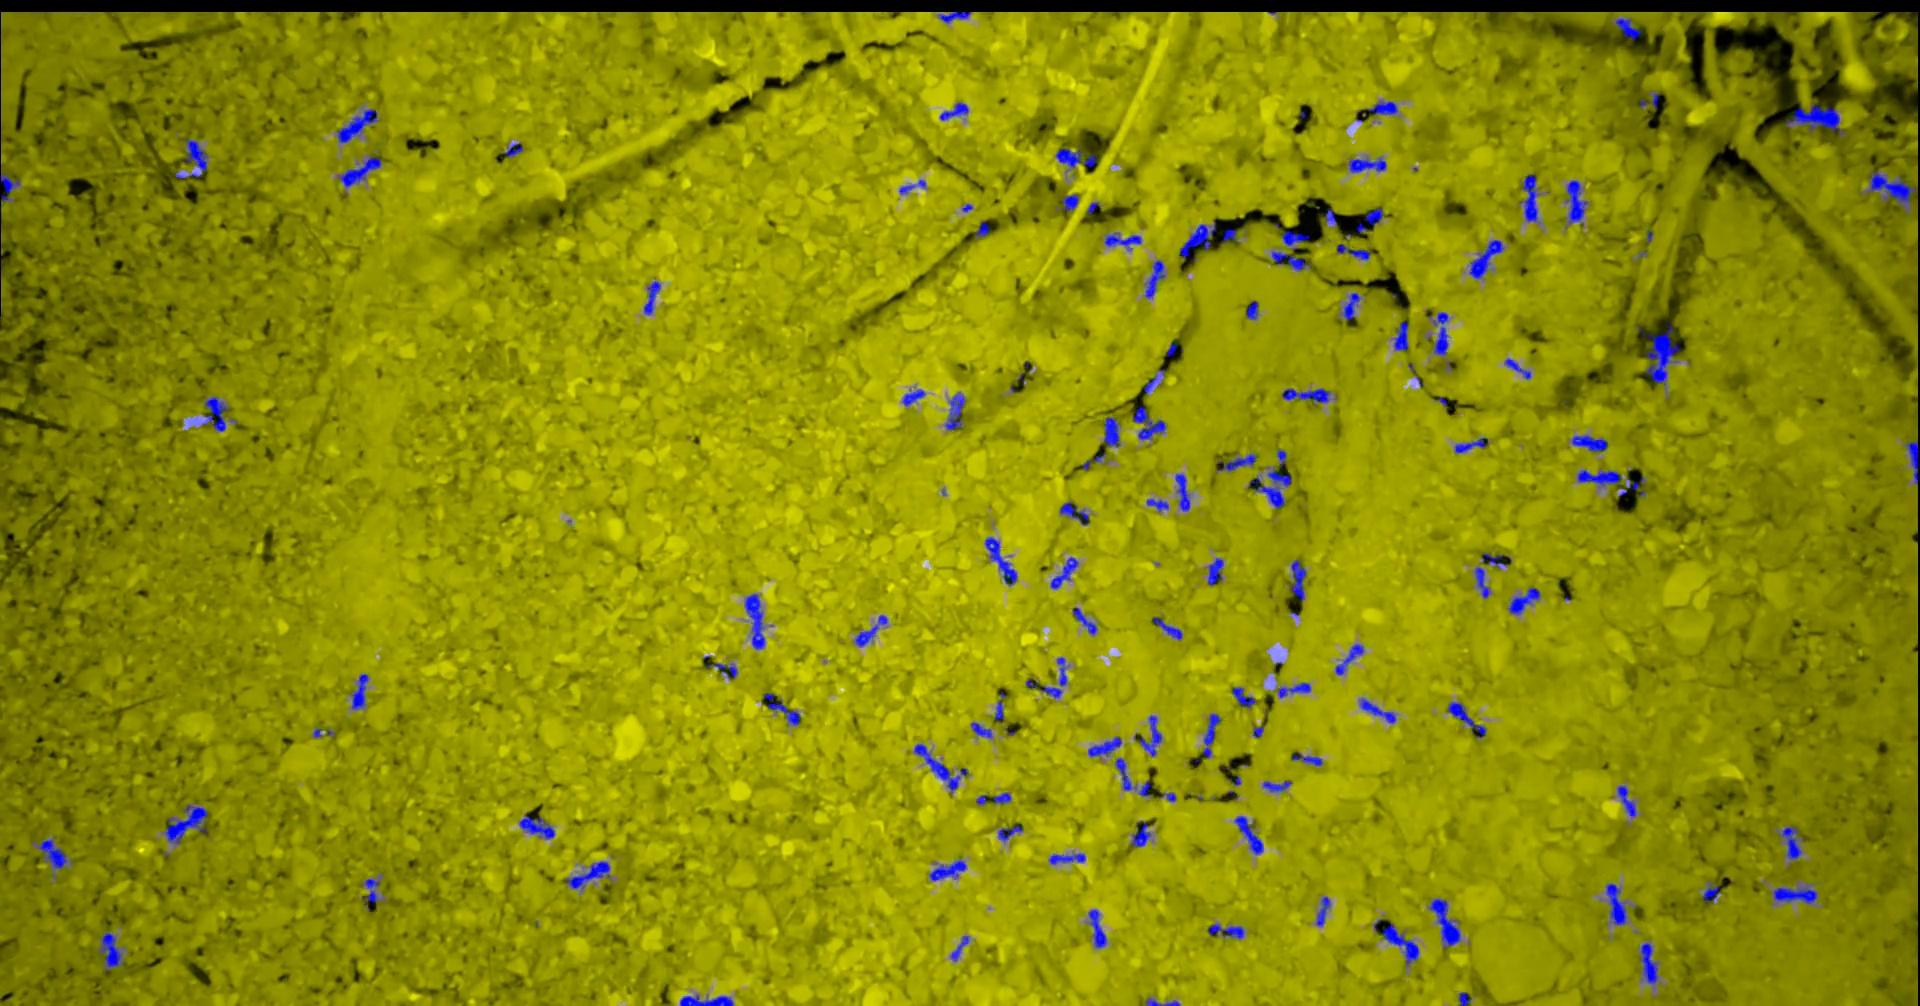ant: (916, 743, 969, 793), (1375, 918, 1420, 967), (1647, 323, 1681, 385), (1787, 103, 1846, 135), (1868, 171, 1920, 207), (1578, 469, 1644, 495), (1250, 467, 1293, 508), (166, 804, 210, 843), (985, 536, 1018, 586), (1430, 898, 1462, 948), (1116, 757, 1152, 796), (338, 108, 378, 142), (339, 156, 383, 187), (1449, 701, 1487, 737), (1470, 239, 1505, 278), (1181, 221, 1217, 257), (764, 692, 803, 725), (568, 861, 611, 888), (745, 593, 766, 649), (1135, 715, 1163, 756), (1134, 405, 1167, 439), (1041, 655, 1068, 697), (1236, 815, 1265, 854), (856, 614, 889, 647), (39, 837, 72, 869), (1567, 179, 1589, 224), (203, 396, 231, 431), (100, 931, 124, 970), (1361, 697, 1397, 723), (1337, 643, 1365, 674), (930, 857, 968, 880), (1357, 100, 1399, 121), (1051, 558, 1079, 588), (1608, 882, 1628, 923), (1510, 587, 1542, 614), (185, 138, 210, 173), (1, 164, 22, 205), (521, 815, 556, 838), (1145, 259, 1166, 298), (1523, 173, 1539, 221), (1780, 826, 1804, 859), (1204, 713, 1222, 757), (1774, 885, 1818, 903), (1272, 251, 1312, 271), (946, 392, 966, 429), (1057, 149, 1098, 166), (1641, 942, 1658, 984), (1090, 909, 1109, 948), (1357, 207, 1385, 232), (1291, 559, 1308, 601), (1105, 232, 1143, 250), (1284, 387, 1332, 401), (1062, 500, 1090, 525), (1218, 453, 1258, 470), (1090, 735, 1123, 756), (1154, 616, 1183, 639), (1435, 311, 1450, 354), (1074, 607, 1098, 634), (1618, 785, 1638, 815), (1338, 243, 1371, 260), (1573, 434, 1609, 451), (353, 673, 370, 709), (363, 878, 381, 911), (1350, 156, 1388, 171), (1617, 18, 1643, 39), (1283, 230, 1310, 250), (645, 279, 662, 314), (681, 995, 735, 1005), (1145, 368, 1167, 394), (1907, 441, 1920, 484), (1457, 437, 1490, 453), (1343, 292, 1363, 320), (1177, 473, 1191, 511), (1476, 567, 1492, 598), (941, 102, 970, 119), (1506, 358, 1531, 379), (1131, 821, 1152, 846), (1209, 923, 1246, 937), (952, 935, 971, 962), (1233, 687, 1257, 708), (707, 662, 739, 677), (1280, 682, 1312, 697), (1105, 417, 1121, 446), (1209, 558, 1225, 586), (1317, 895, 1332, 925), (1293, 751, 1324, 765), (1396, 321, 1410, 351), (1084, 452, 1107, 470), (940, 10, 971, 23), (903, 389, 927, 405), (999, 824, 1023, 841), (1050, 854, 1087, 864), (900, 179, 927, 193), (1704, 882, 1721, 903), (1483, 553, 1509, 567), (996, 692, 1007, 721), (1263, 780, 1293, 791), (971, 721, 993, 737), (1062, 193, 1079, 211), (1148, 498, 1170, 511), (507, 142, 524, 158), (1147, 997, 1181, 1005), (1247, 300, 1260, 319), (977, 220, 990, 236), (1224, 227, 1238, 241), (1326, 210, 1338, 225), (994, 793, 1012, 803), (1460, 991, 1473, 1005), (1277, 448, 1288, 465)
